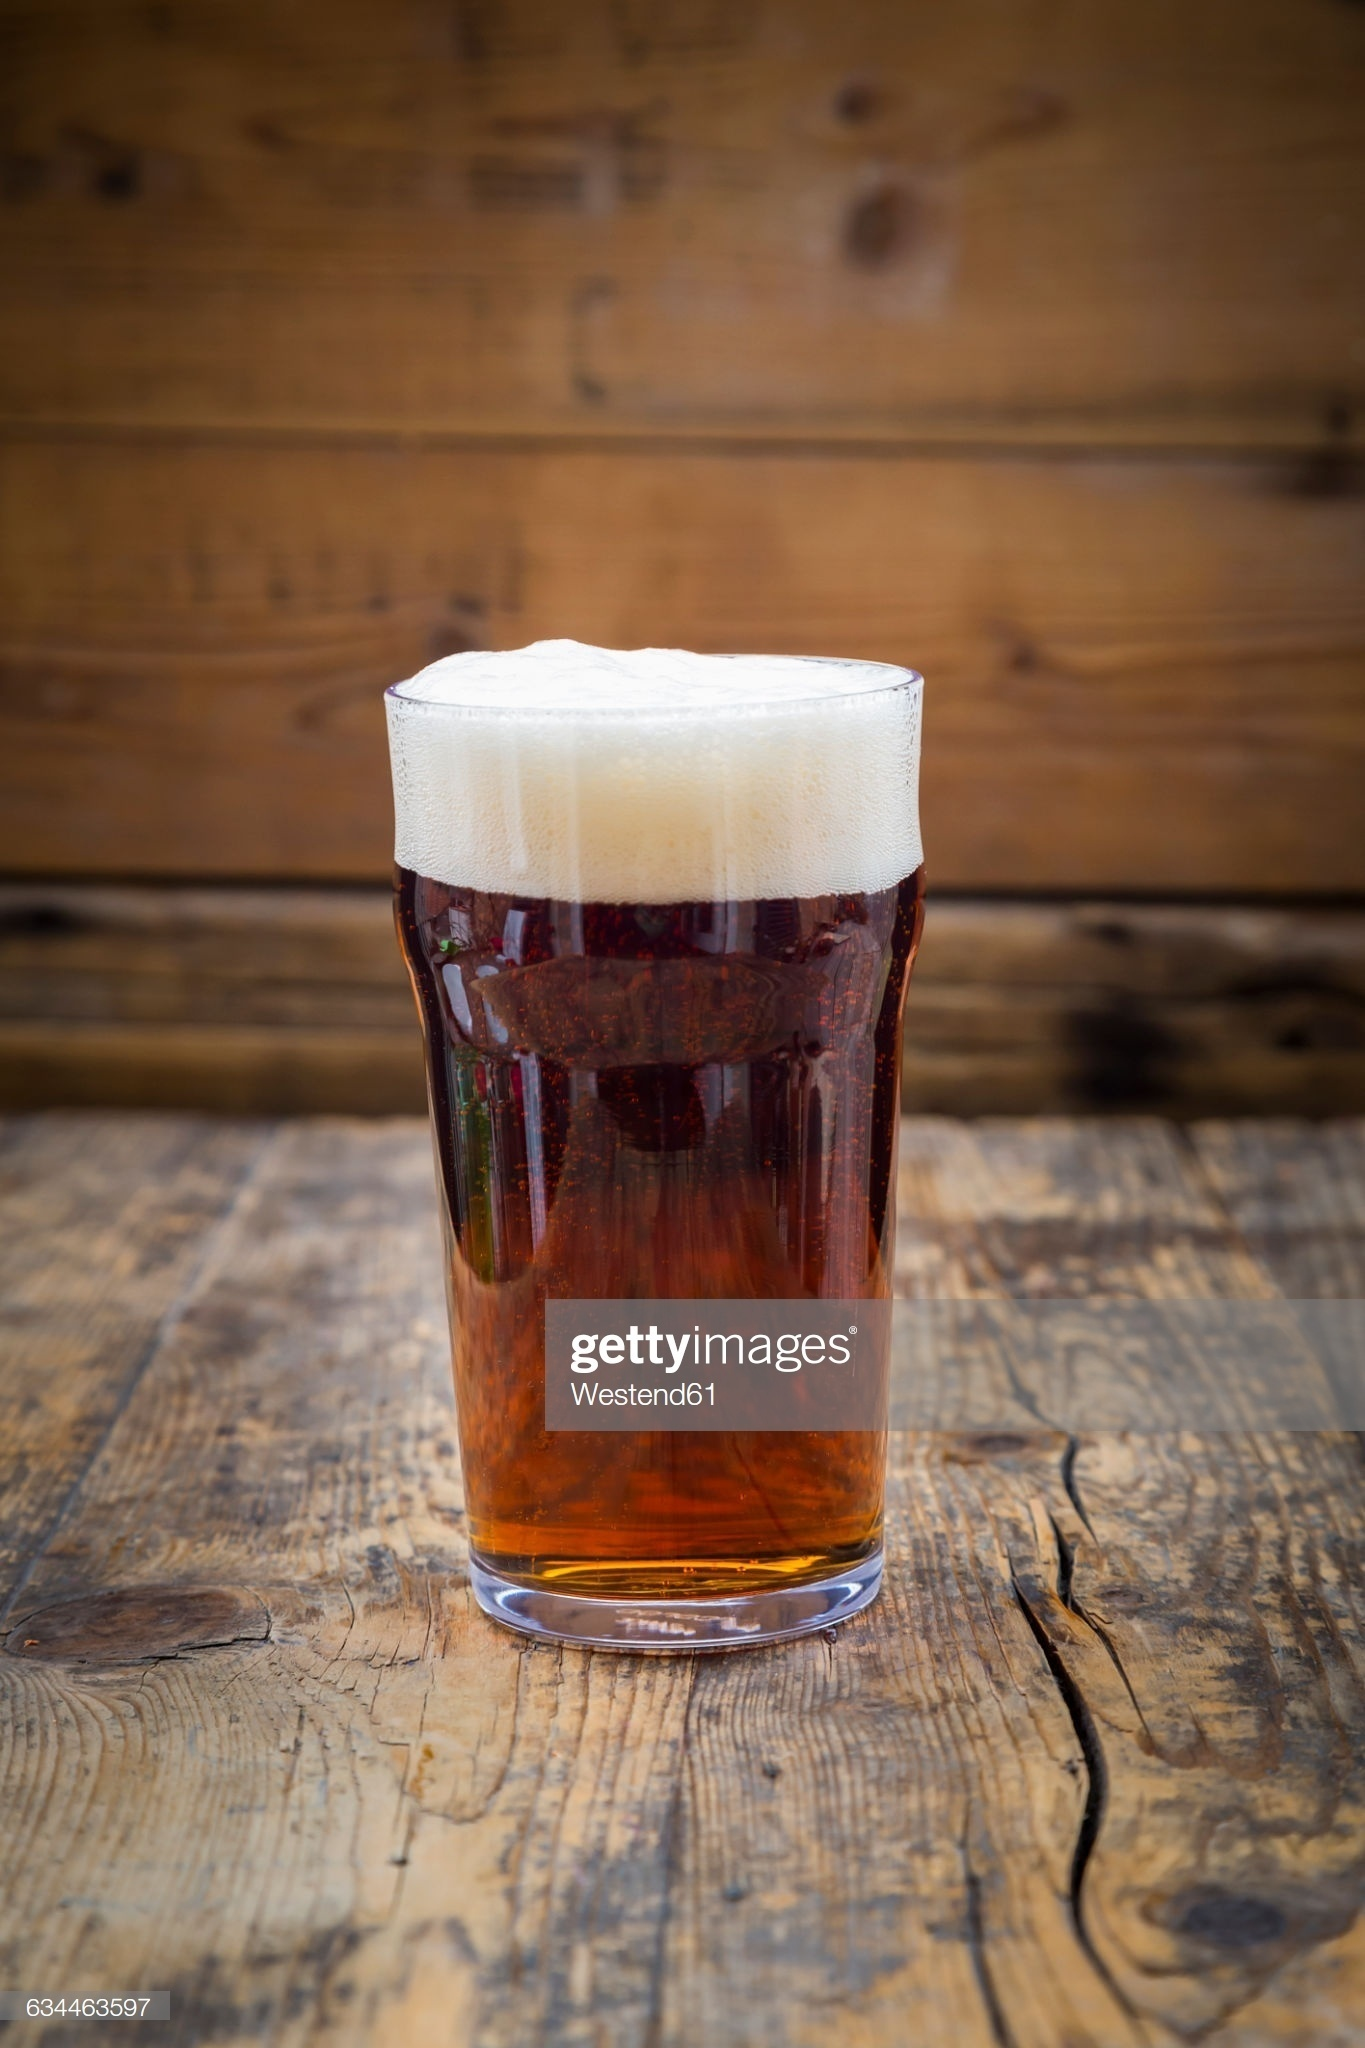whiskey: (408, 649, 929, 1644)
